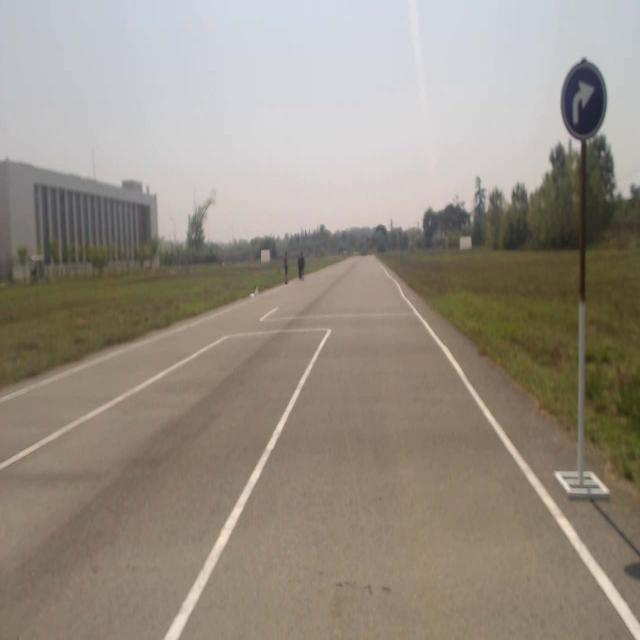sag: (560, 59, 606, 145)
